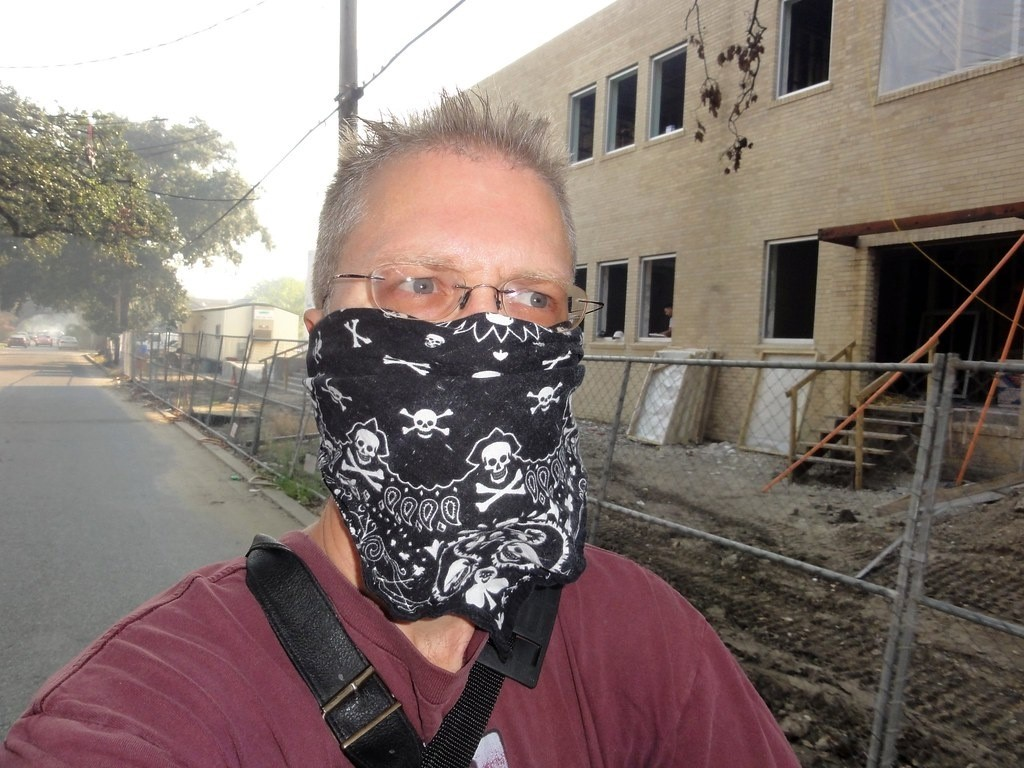face_with_mask: (317, 133, 583, 513)
